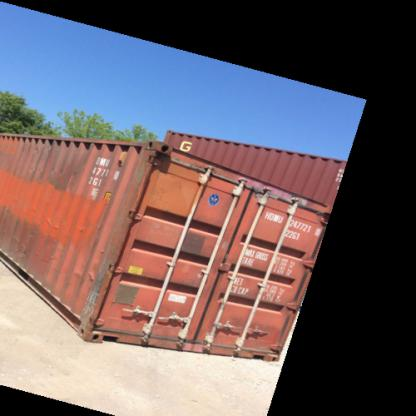Damage: (69, 244, 104, 326), (40, 160, 84, 190), (4, 227, 35, 264), (15, 137, 59, 153), (42, 209, 65, 232), (75, 216, 91, 236)
